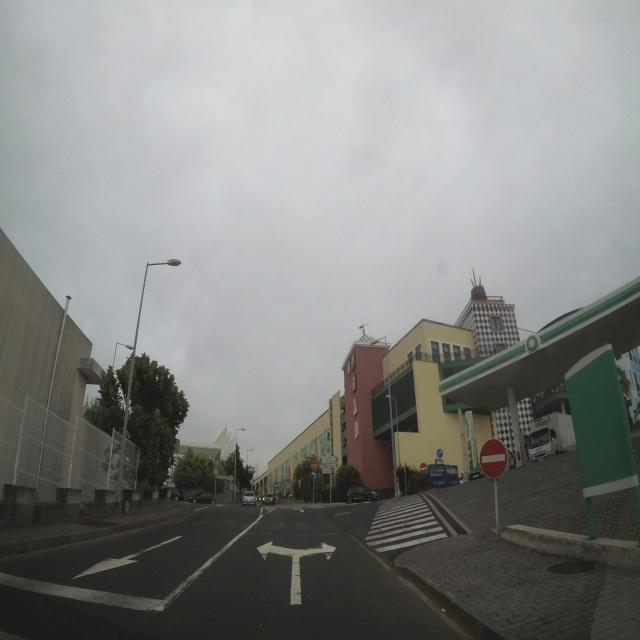car: (346, 484, 380, 504), (188, 490, 216, 504), (468, 466, 484, 482), (242, 490, 257, 507), (168, 487, 184, 501), (262, 493, 276, 506), (274, 493, 280, 502)
